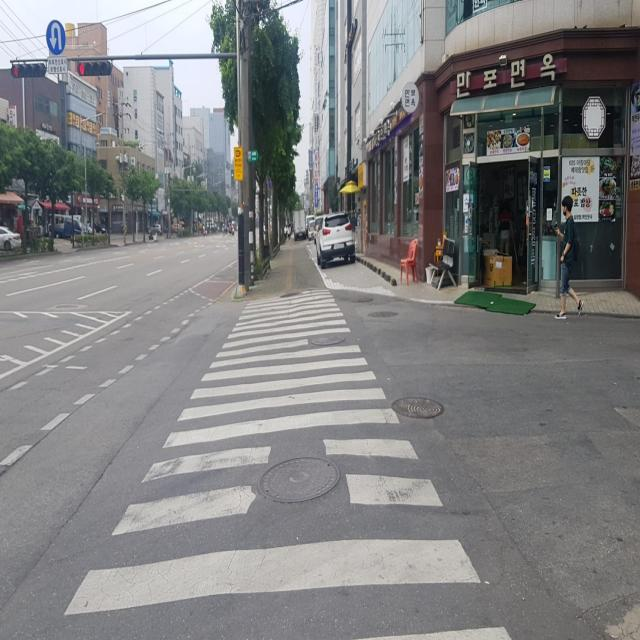횡단보도: (60, 283, 515, 640)
